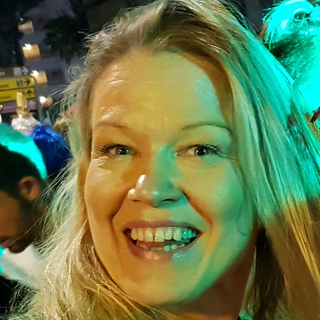eye: (182, 138, 227, 163), (96, 139, 139, 164)
